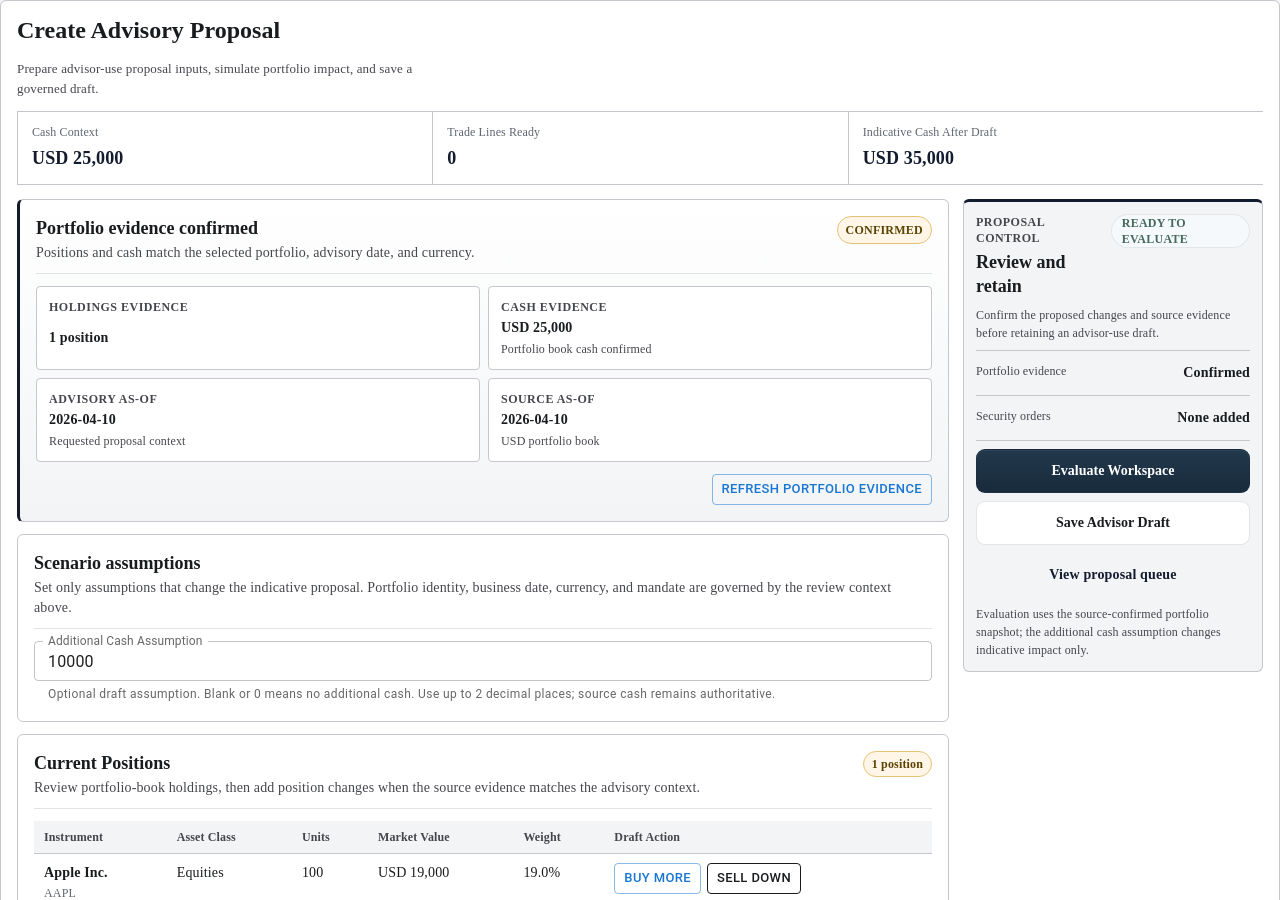
Test: ProposalSimulateForm › withdraws evaluation confirmation when the advisor materially changes the draft
The image size is (1280, 900).
Click the button "Evaluate Workspace" at (1113, 471), box [976,449,1250,493]
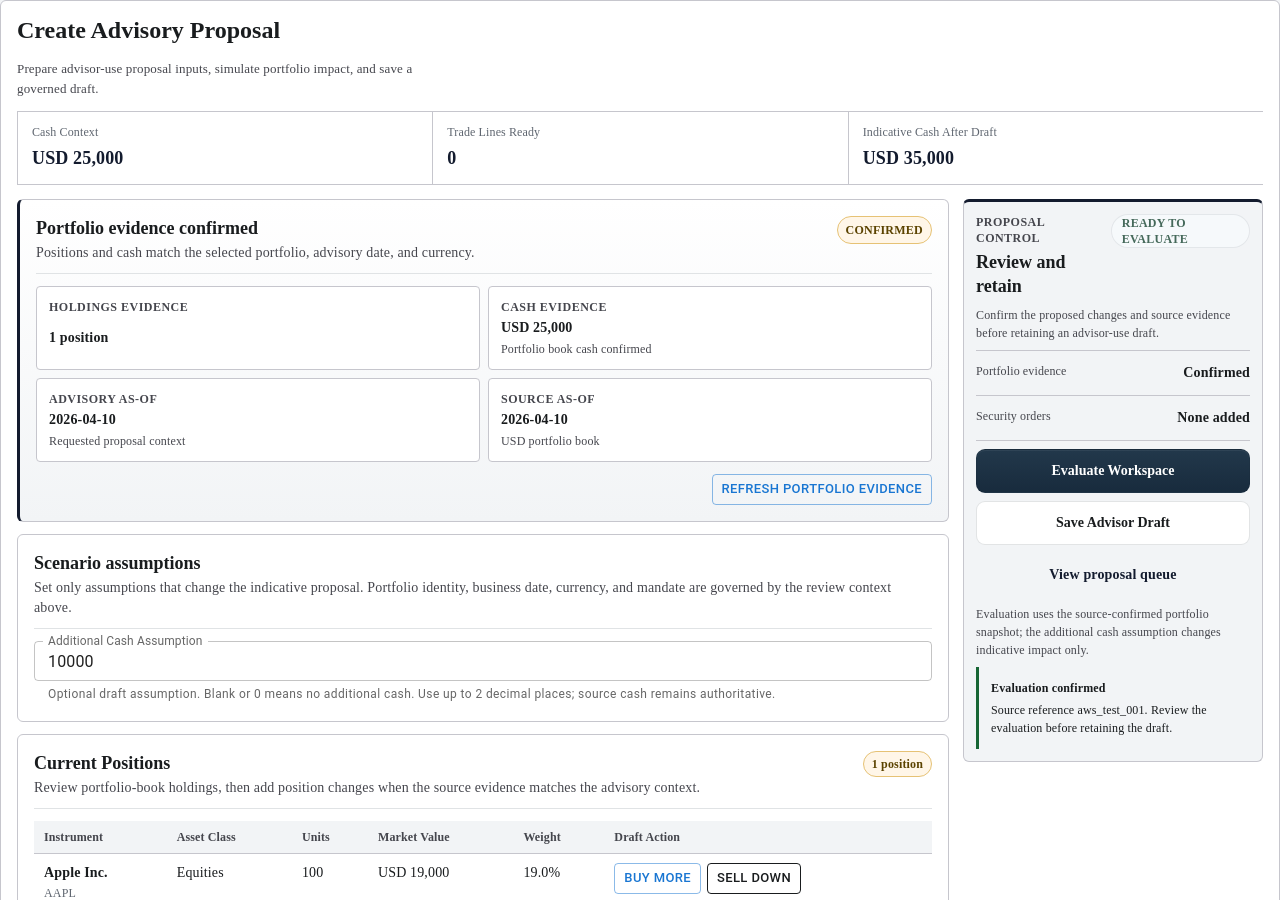
expect the text "Evaluation confirmed" is shown: met, box [991,681,1106,695]
Replace the text in the field labelled "Additional Cash Assumption" with "12500" at (483, 661), box [34,641,932,681]
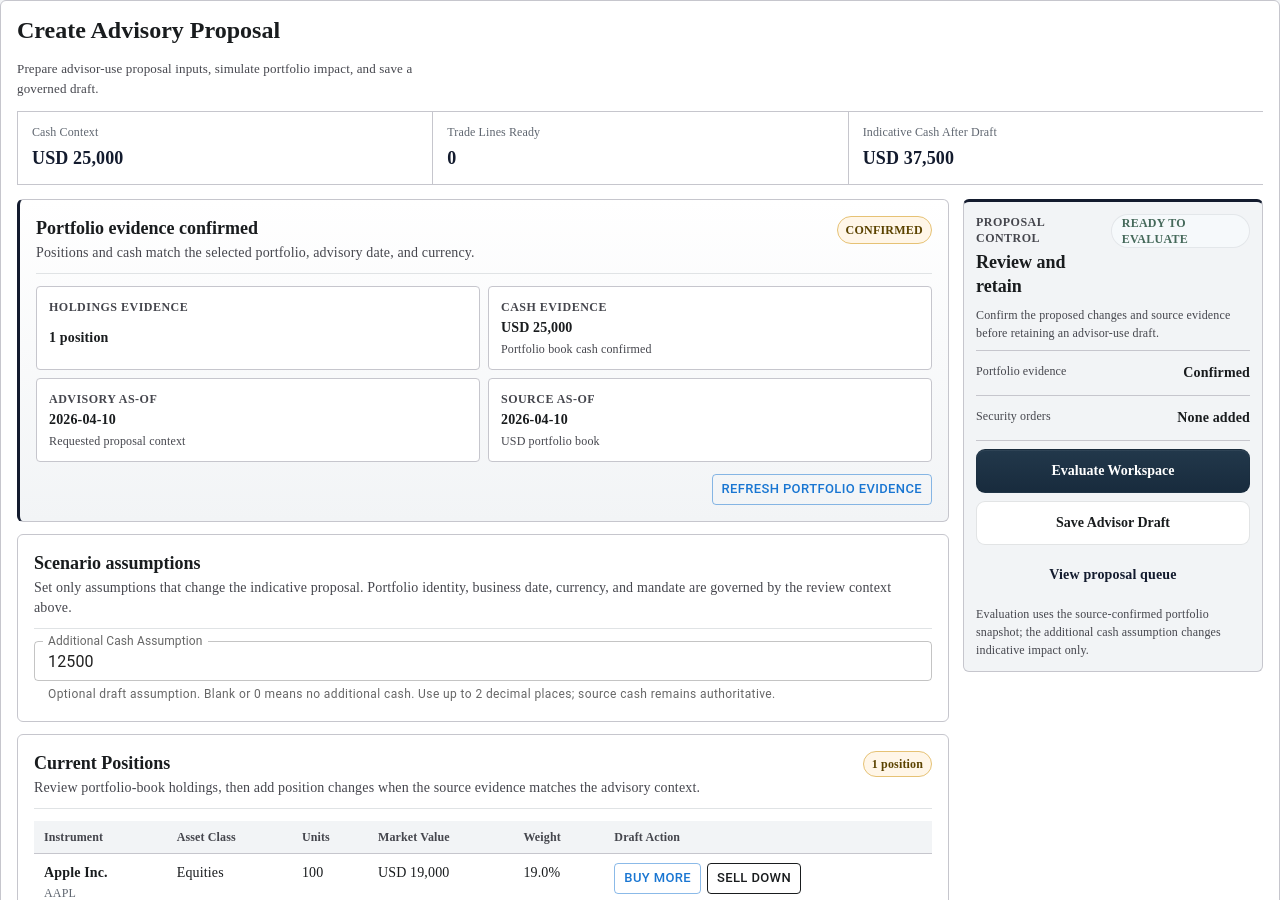
expect the text "Evaluation confirmed" is gone: met
